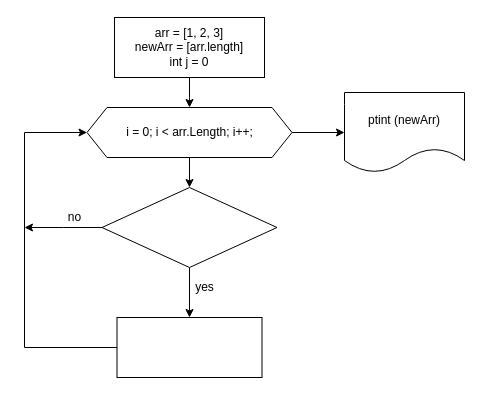
Some shapes in this 482 by 395 pixel diagram are drawn without their labels. The centre of each missing label's shape, as x and y in pixels:
"arr [ i ] <= 3" belongs at point 189,227.
"newArr [ j++ ] = arr [ i ]" belongs at point 189,347.
